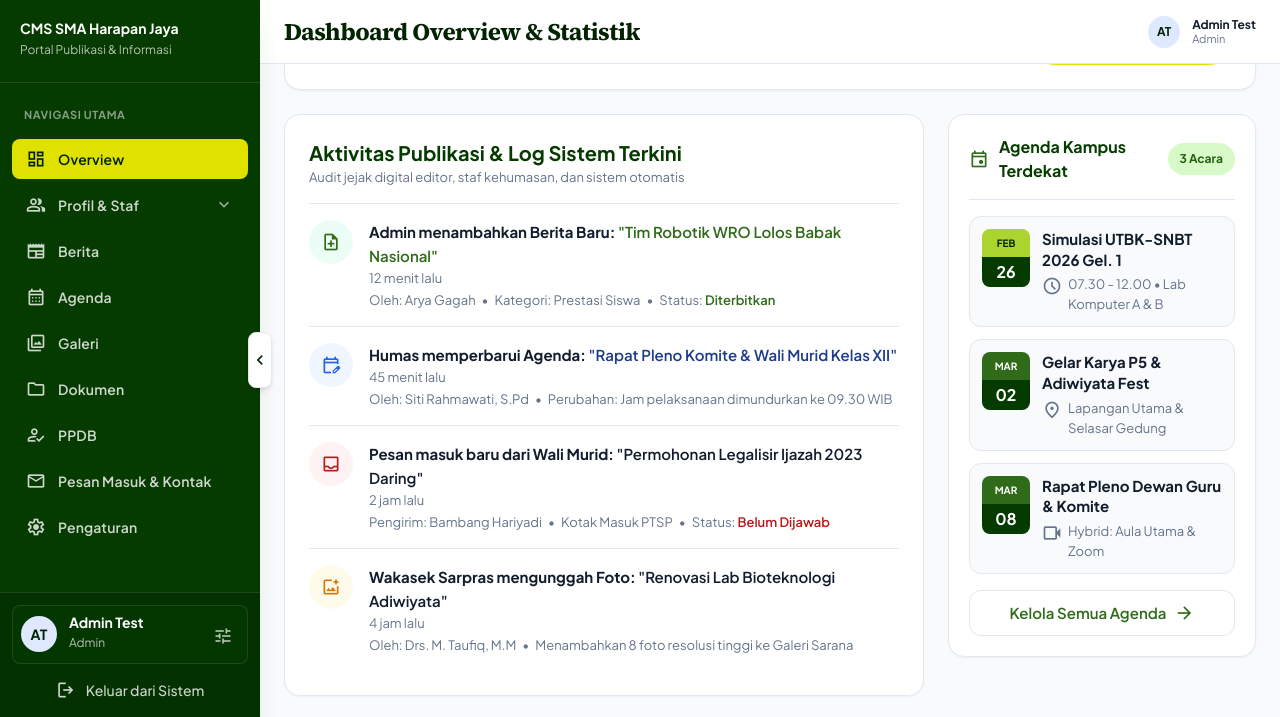
Scenario: Admin · Overview Dashboard › Kelola Semua Agenda membuka halaman Agenda
(page scrolled)
Click the link "Kelola Semua Agenda". click: coordinates (1102, 613)
box: [969,590,1235,636]
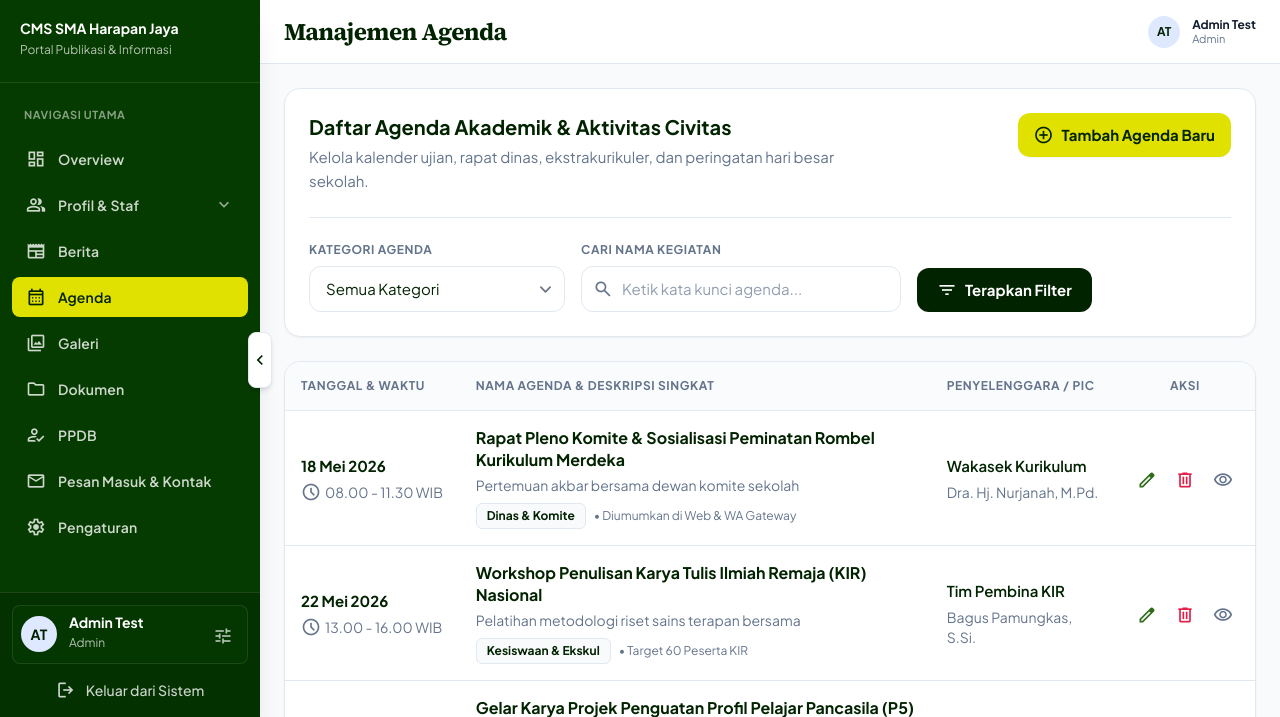
Expected: the heading "Manajemen Agenda" is shown, [284,16,507,46]
